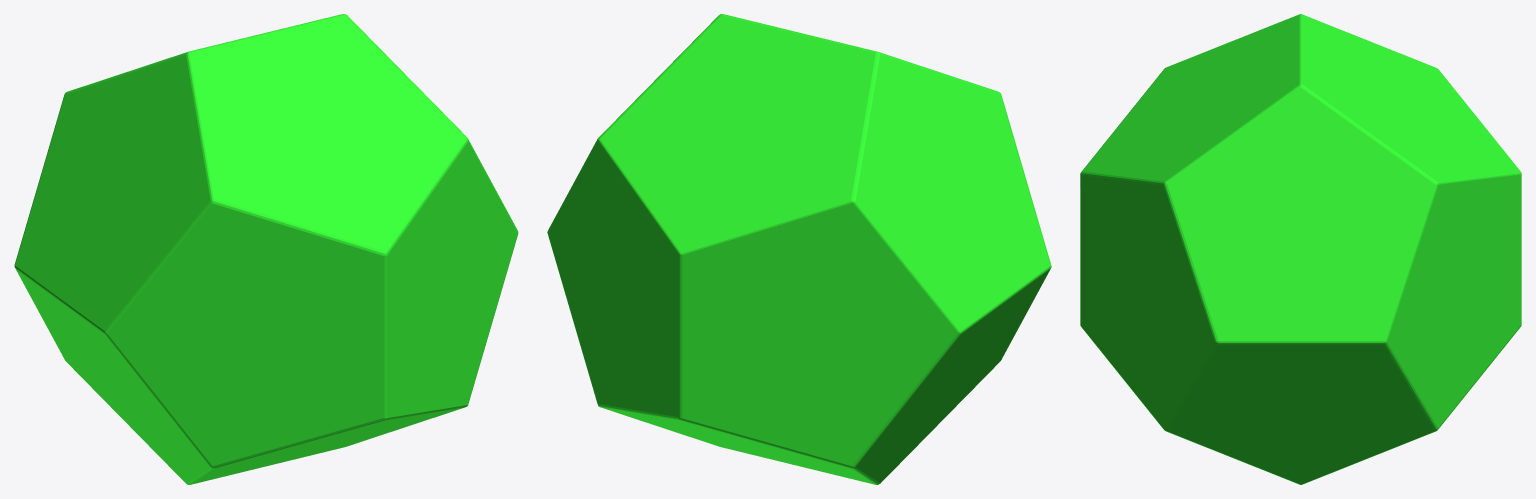
Rendered from Dodecahedron.obj.
3 views of the same model, side by side, from view 1: azimuth 30°, elevation 25°; view 2: azimuth 150°, elevation 25°; view 3: azimuth 270°, elevation 25° (orthographic). The views are drawn at different scales.
Parts seen in each view (by area): view 1: Dodecahedron; view 2: Dodecahedron; view 3: Dodecahedron.
Part boxes in pixels (x1,y1,x2,y2): Dodecahedron: (14, 14, 518, 484); Dodecahedron: (547, 14, 1051, 484); Dodecahedron: (1080, 14, 1521, 484).
Bounding box in the file's own units: 0.9993 × 0.9993 × 0.9993.
